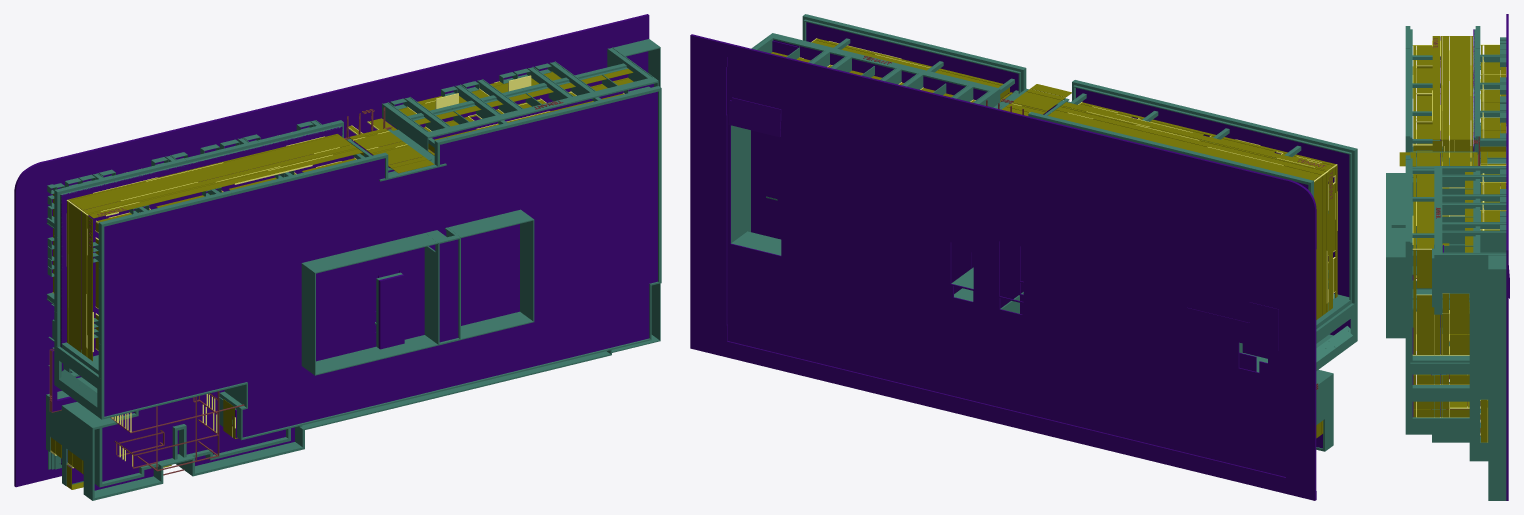
Rendered from building.obj.
The picture shows the model from 3 angles, left to right: view 1: azimuth 30°, elevation 25°; view 2: azimuth 150°, elevation 25°; view 3: azimuth 270°, elevation 25°; orthographic projection. The views are drawn at different scales.
Parts seen in each view (by area): view 1: Layer_A_FLOR, Layer_A_WALL, Layer_A_GLAZ_CURT, Layer_A_GLAZ_CWMG, Layer_A_GENM; view 2: Layer_A_FLOR, Layer_A_WALL, Layer_A_GLAZ_CURT, Layer_A_GLAZ_CWMG; view 3: Layer_A_WALL, Layer_A_GLAZ_CURT, Layer_A_FLOR, Layer_A_GLAZ_CWMG, Layer_A_GENM.
Part boxes in pixels (x1=…): Layer_A_FLOR: x1=14, y1=14, x2=657, y2=490; Layer_A_WALL: x1=46, y1=39, x2=661, y2=500; Layer_A_GLAZ_CURT: x1=50, y1=68, x2=633, y2=489; Layer_A_GLAZ_CWMG: x1=50, y1=75, x2=624, y2=468; Layer_A_GENM: x1=49, y1=100, x2=563, y2=475; Layer_A_FLOR: x1=690, y1=22, x2=1350, y2=500; Layer_A_WALL: x1=731, y1=14, x2=1357, y2=451; Layer_A_GLAZ_CURT: x1=771, y1=38, x2=1337, y2=438; Layer_A_GLAZ_CWMG: x1=799, y1=38, x2=1337, y2=303; Layer_A_WALL: x1=1386, y1=26, x2=1506, y2=500; Layer_A_GLAZ_CURT: x1=1399, y1=36, x2=1505, y2=442; Layer_A_FLOR: x1=1412, y1=14, x2=1509, y2=500; Layer_A_GLAZ_CWMG: x1=1412, y1=36, x2=1506, y2=442; Layer_A_GENM: x1=1416, y1=38, x2=1506, y2=436.
Bounding box in the file's own units: 2934 × 1407 × 630.
